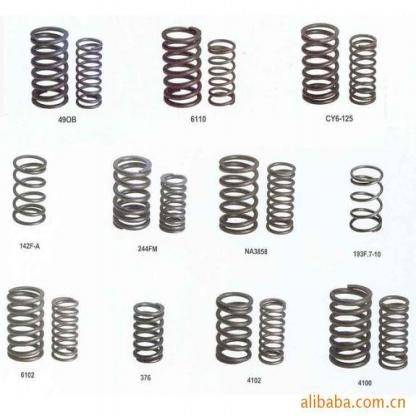FOD: (160, 20, 205, 112), (326, 283, 373, 369), (215, 153, 262, 236), (297, 20, 341, 106), (29, 21, 70, 113), (111, 151, 155, 233), (6, 281, 47, 364), (9, 148, 50, 226), (213, 290, 254, 366), (346, 164, 386, 236), (266, 154, 298, 240), (376, 293, 410, 372), (206, 34, 240, 107), (132, 298, 168, 364), (74, 34, 105, 109), (348, 32, 377, 108), (50, 293, 80, 363), (259, 295, 286, 366), (159, 169, 188, 235)
